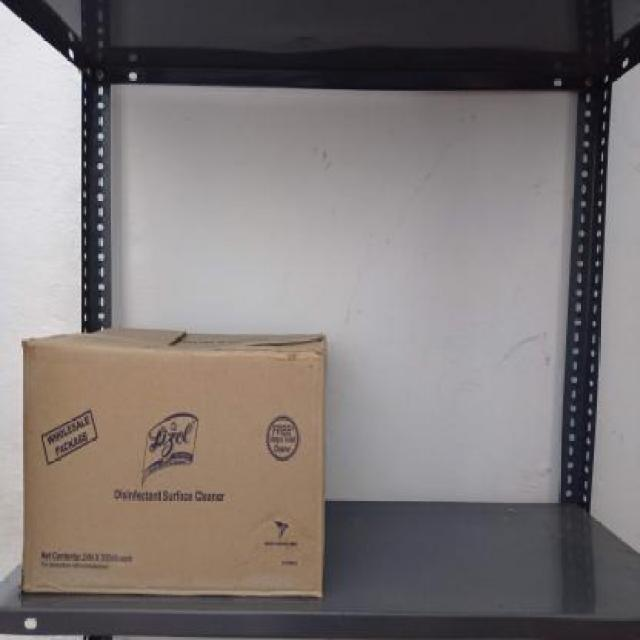box: (18, 348, 322, 592)
